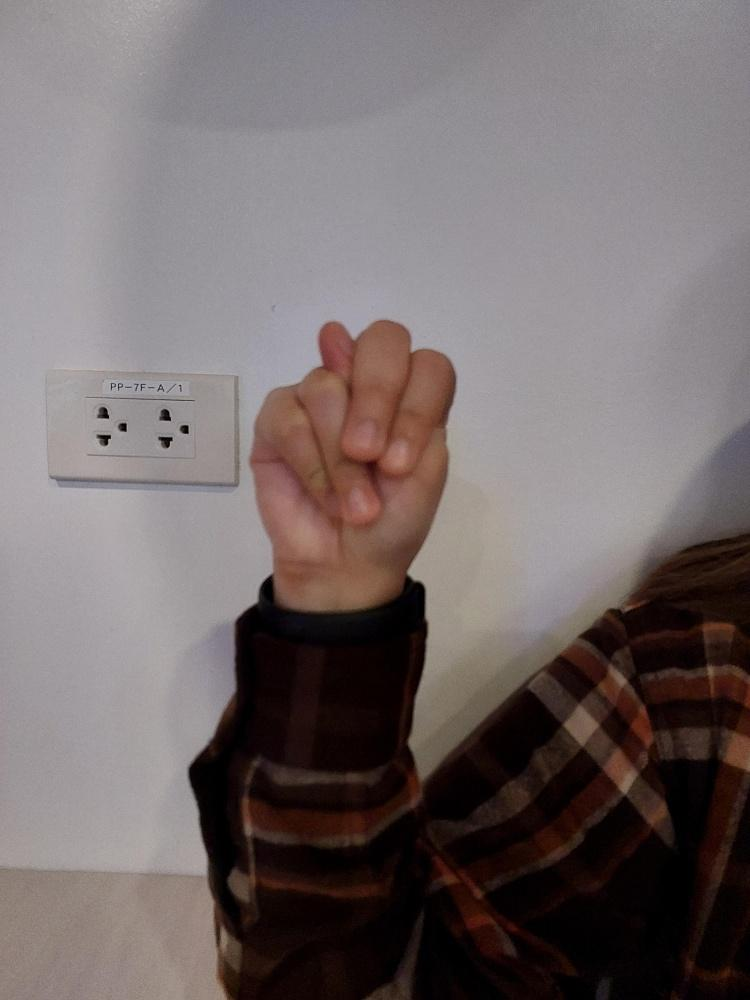n: (248, 310, 458, 596)
